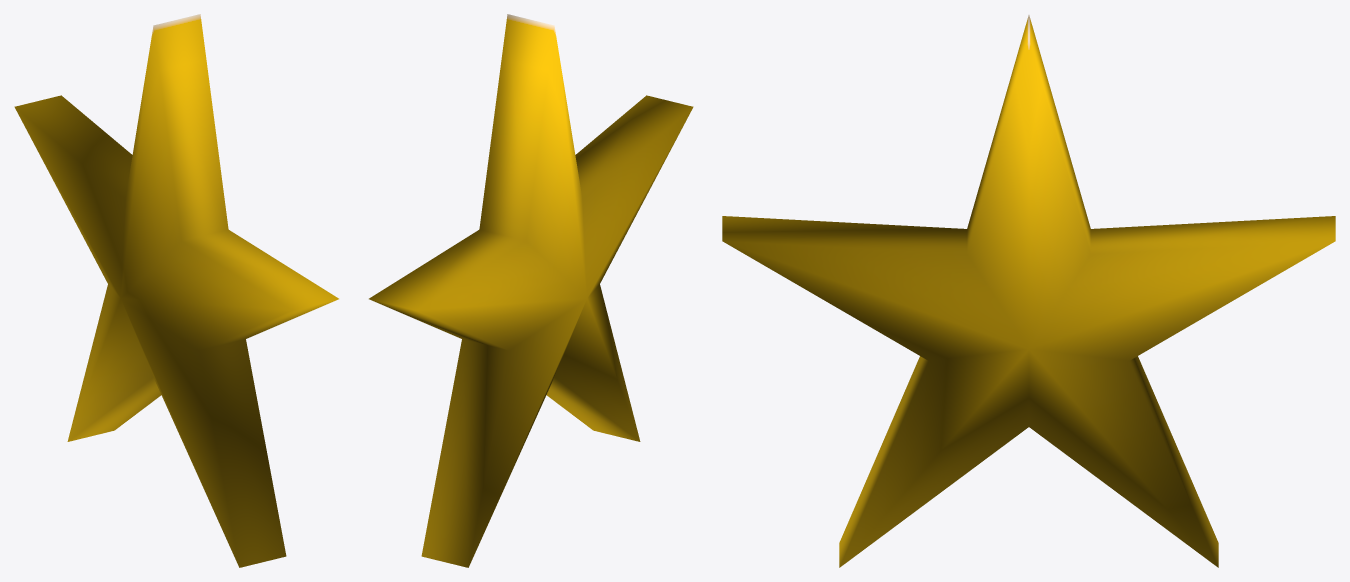
The model's file is Collectable STAR COIN.glb.
The picture shows the model from 3 angles, left to right: view 1: azimuth 30°, elevation 25°; view 2: azimuth 150°, elevation 25°; view 3: azimuth 270°, elevation 25°; orthographic projection. The views are drawn at different scales.
Visible parts, largest first — view 1: Circle; view 2: Circle; view 3: Circle.
Boxes of the visible parts, box(x1,y1,x2,y2) form: Circle: box(14, 14, 338, 567); Circle: box(369, 14, 693, 567); Circle: box(722, 15, 1335, 567).
Size of the model in its own units: 0.3264 by 1.33 by 1.4.
Materials: 1 (1 with a texture image).
